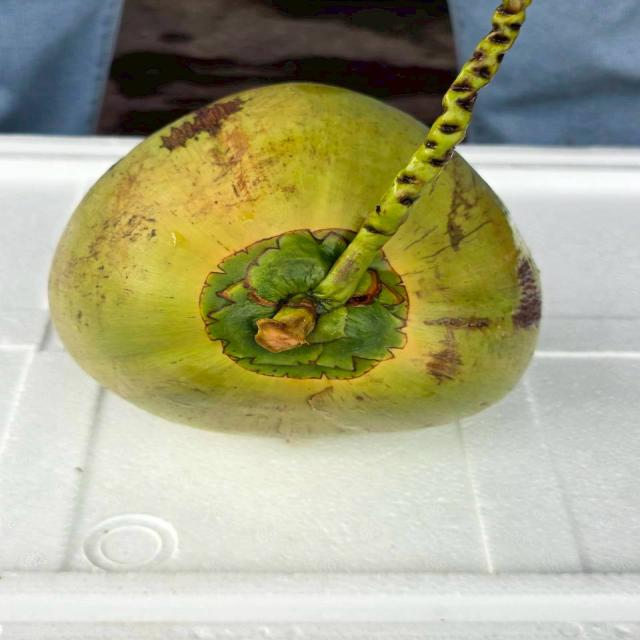coco_2.0: (152, 195, 472, 426)
